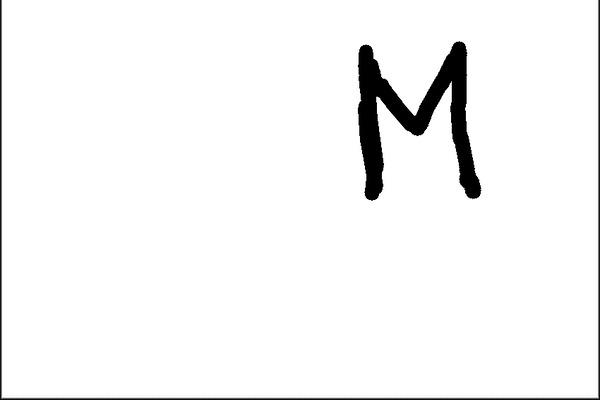M: (346, 34, 486, 204)
